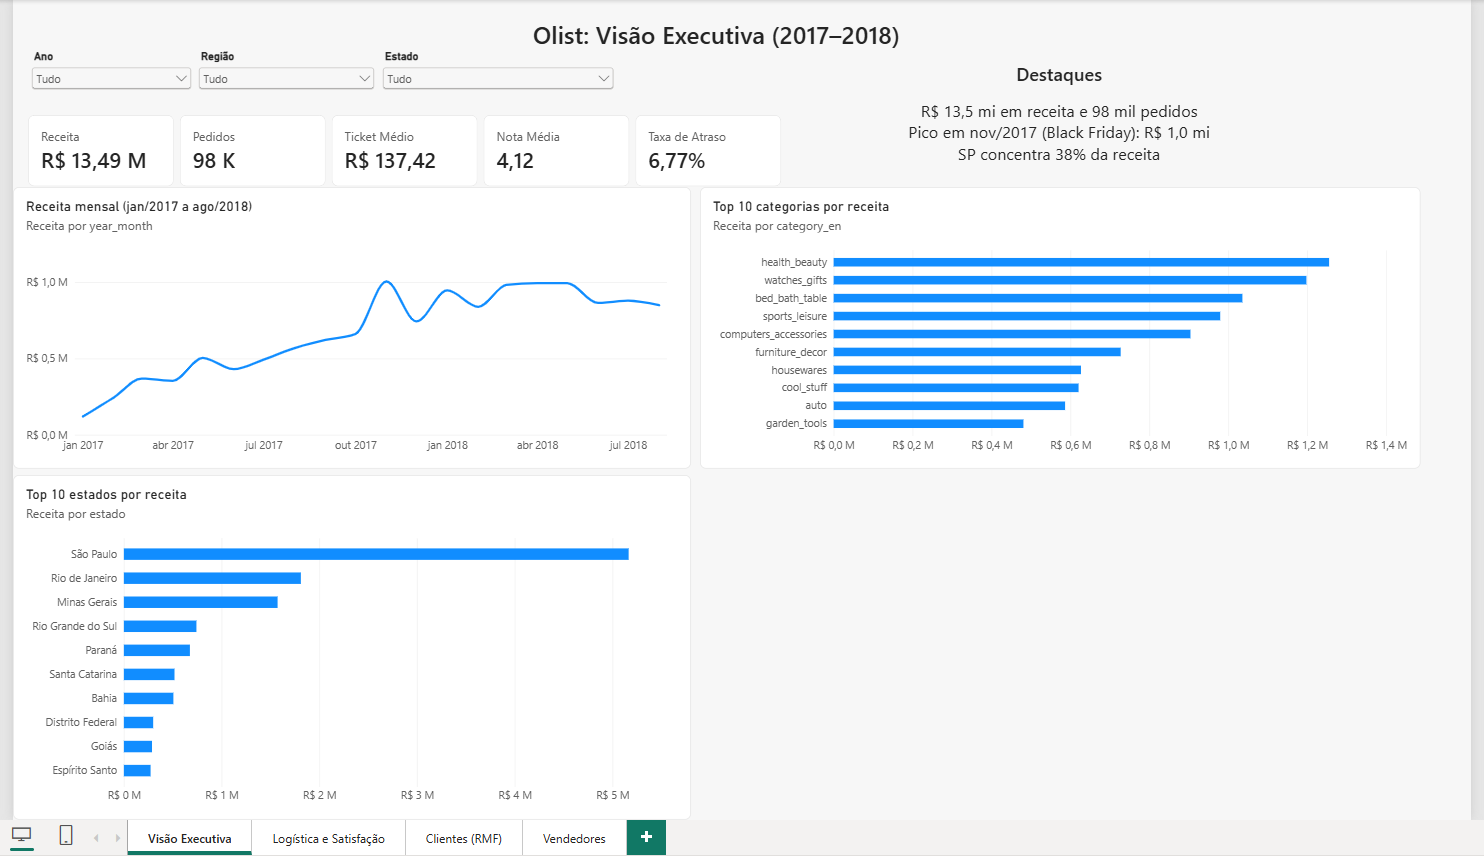

What the dashboard file says about the page in this screenshot:
{"tool":"powerbi","page":{"name":"Visão Executiva","canvas":[1920,1080],"ordinal":0},"visuals":[{"type":"textbox","box":[684.9,22.4,550.5,56.6],"z":0},{"type":"cardVisual","fields":{"Data":["fact_order_items.Receita","fact_order_items.Pedidos","fact_order_items.Ticket Médio","fact_orders.Nota Média","fact_orders.Taxa de Atraso"]},"box":[20,151.4,996,94],"z":1000},{"type":"slicer","fields":{"Values":["dim_date.year"]},"box":[20,65.7,220,62.9],"z":2000},{"type":"slicer","fields":{"Values":["dim_geografia.regiao"]},"box":[240,65.7,241.4,62.9],"z":3000},{"type":"slicer","fields":{"Values":["dim_geografia.estado"]},"box":[482,66,314,86],"z":4000},{"type":"lineChart","title":"Receita mensal (jan/2017 a ago/2018)","fields":{"Category":["dim_date.year_month"],"Y":["fact_order_items.Receita"]},"box":[0,245.7,892.9,371.4],"z":5000},{"type":"clusteredBarChart","title":"Top 10 categorias por receita","fields":{"Category":["dim_product.category_en"],"Y":["fact_order_items.Receita"]},"box":[904.3,245.7,948.6,371.4],"z":6000},{"type":"clusteredBarChart","title":"Top 10 estados por receita","fields":{"Category":["dim_geografia.estado"],"Y":["fact_order_items.Receita"]},"box":[0,625.7,892.9,454.3],"z":7000},{"type":"textbox","box":[987.1,80,782.9,278.6],"z":8000}]}

Visuals, with their boxes on the page's 1920x1080 design canvas (x1, y1, x2, y2). These are canvas units, not pixel positions in the 1484x856 screenshot, which may show the page scaled, cropped or inside an application window:
textbox: rect(685, 22, 1235, 79)
cardVisual - fact_order_items.Receita x fact_order_items.Pedidos: rect(20, 151, 1016, 245)
slicer - dim_date.year: rect(20, 66, 240, 129)
slicer - dim_geografia.regiao: rect(240, 66, 481, 129)
slicer - dim_geografia.estado: rect(482, 66, 796, 152)
"Receita mensal (jan/2017 a ago/2018)" lineChart: rect(0, 246, 893, 617)
"Top 10 categorias por receita" clusteredBarChart: rect(904, 246, 1853, 617)
"Top 10 estados por receita" clusteredBarChart: rect(0, 626, 893, 1080)
textbox: rect(987, 80, 1770, 359)
